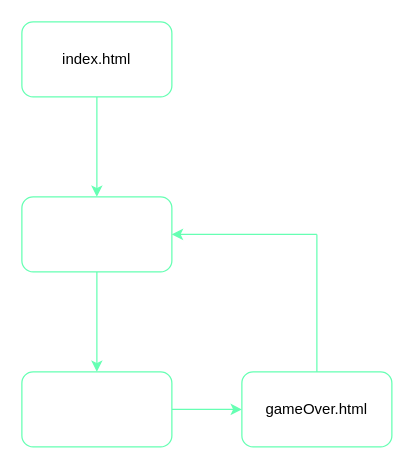
This 414x469 diagram has some shape labels left out. Here are the shapes that lost their labels. From the top down, the centre of each, then its label:
[96,234]: selectDifficulty.html
[96,409]: gamePlay.html
